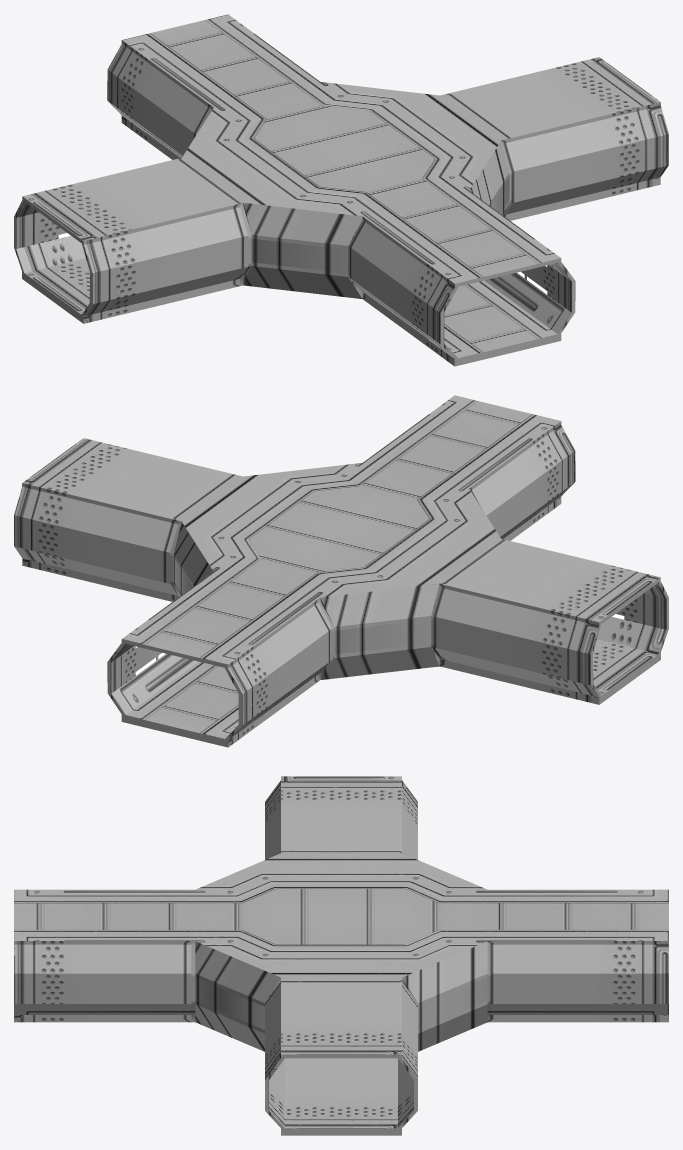
File: modular_hallway_cross_type_02.glb
The picture shows the model from 3 angles, top to bottom: view 1: azimuth 30°, elevation 25°; view 2: azimuth 150°, elevation 25°; view 3: azimuth 270°, elevation 25°; orthographic projection.
Parts seen in each view (by area): view 1: Gang_4er_Kreuzung; view 2: Gang_4er_Kreuzung; view 3: Gang_4er_Kreuzung.
Boxes of the visible parts, x1=… form: Gang_4er_Kreuzung: x1=14, y1=14, x2=668, y2=366; Gang_4er_Kreuzung: x1=14, y1=395, x2=668, y2=747; Gang_4er_Kreuzung: x1=14, y1=776, x2=668, y2=1135.
Bounding box in the file's own units: 20.66 × 2.88 × 20.65.
Materials: 6 (5 with a texture image).
